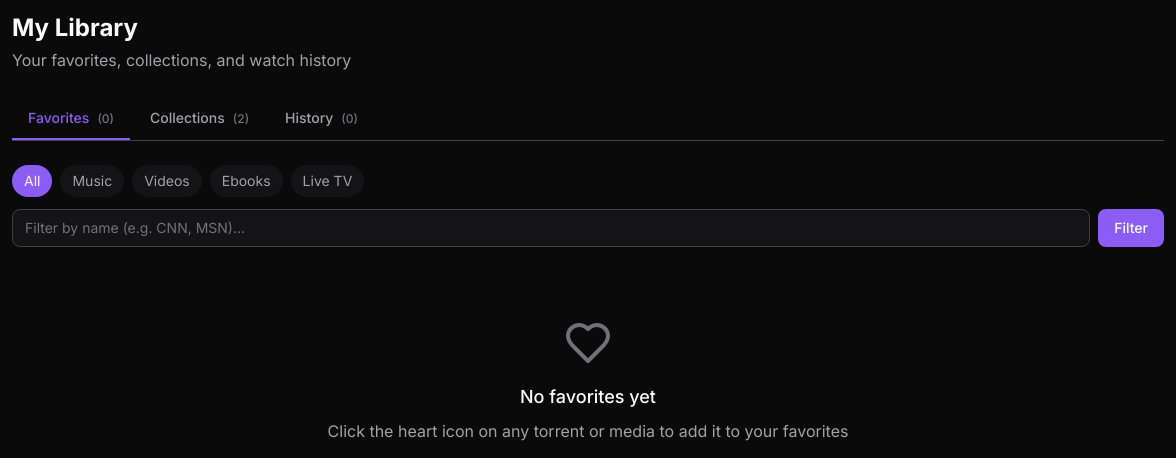
Test: LibraryContent › Collections Tab › displays collections list
This screenshot has width=1176, height=458.
Click the button "Collections(2)": (200, 118) [134,96,265,140]
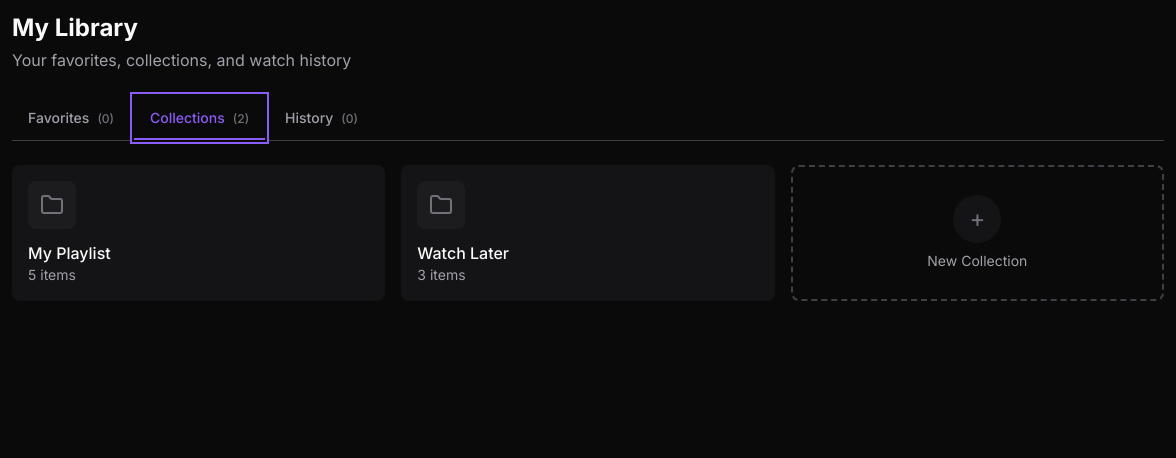
expect the heading "My Playlist" is shown: met, box [28,243,111,263]
expect the text "5 items" is shown: met, box [28,266,76,283]
expect the heading "Watch Later" is shown: met, box [417,243,509,263]
